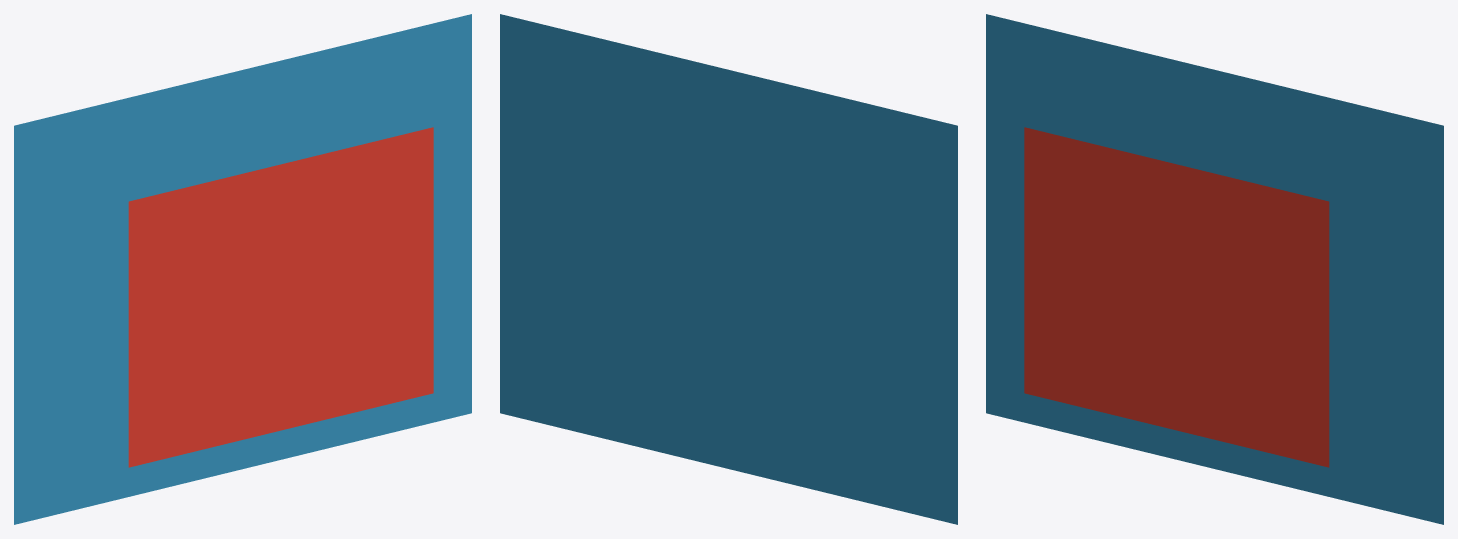
Rendered from alpha-opaque.gltf.
3 views of the same model, side by side, from view 1: azimuth 30°, elevation 25°; view 2: azimuth 150°, elevation 25°; view 3: azimuth 330°, elevation 25° (orthographic).
Bounding box in the file's own units: 9 × 7.5 × 1.3.
Materials: 2 (1 with a texture image).
